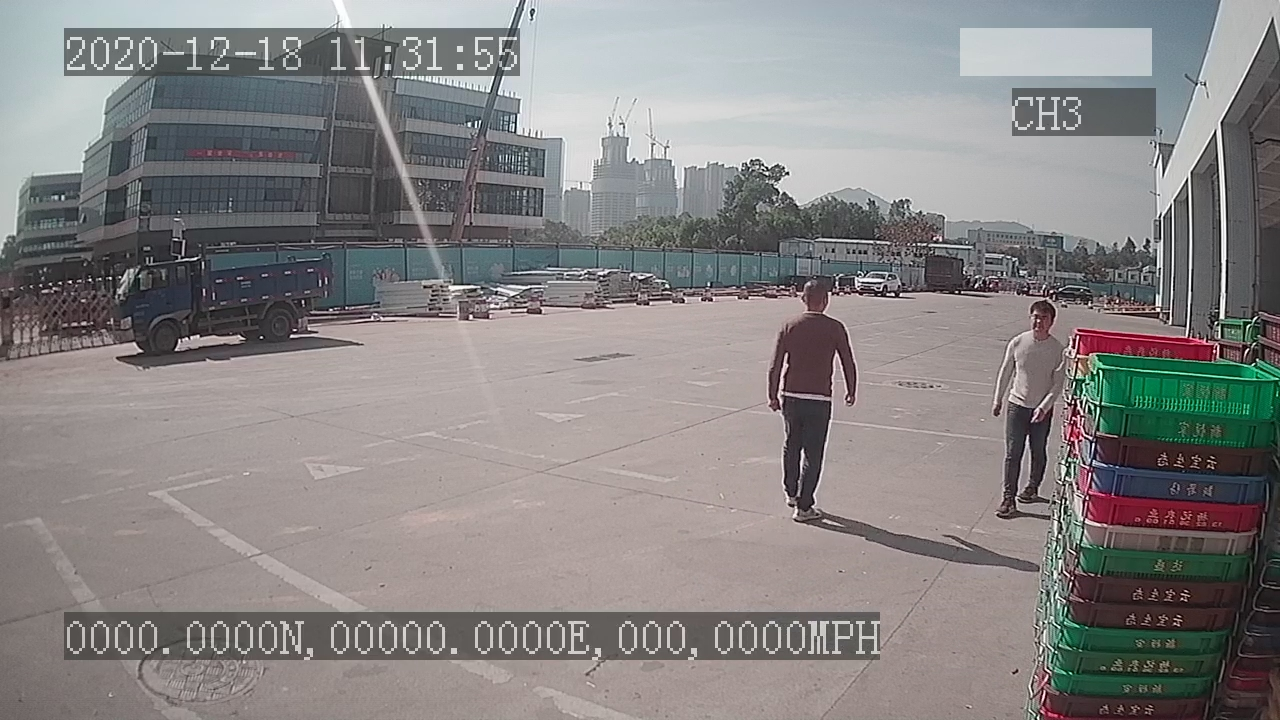person: (765, 273, 859, 523)
